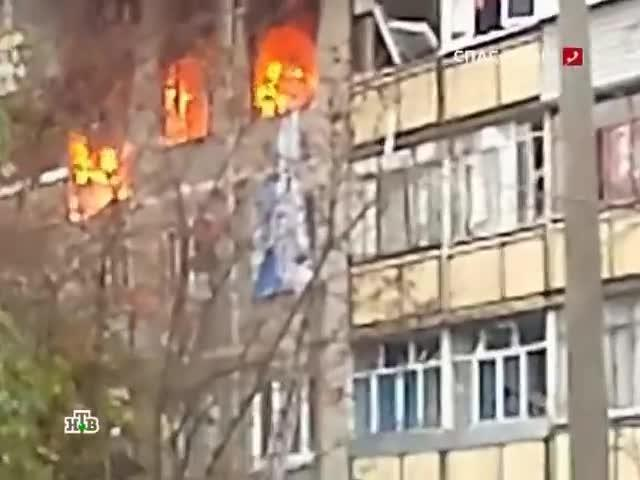fire: (64, 129, 122, 188), (161, 58, 202, 131), (253, 61, 306, 117)
smoke: (14, 1, 320, 162)
